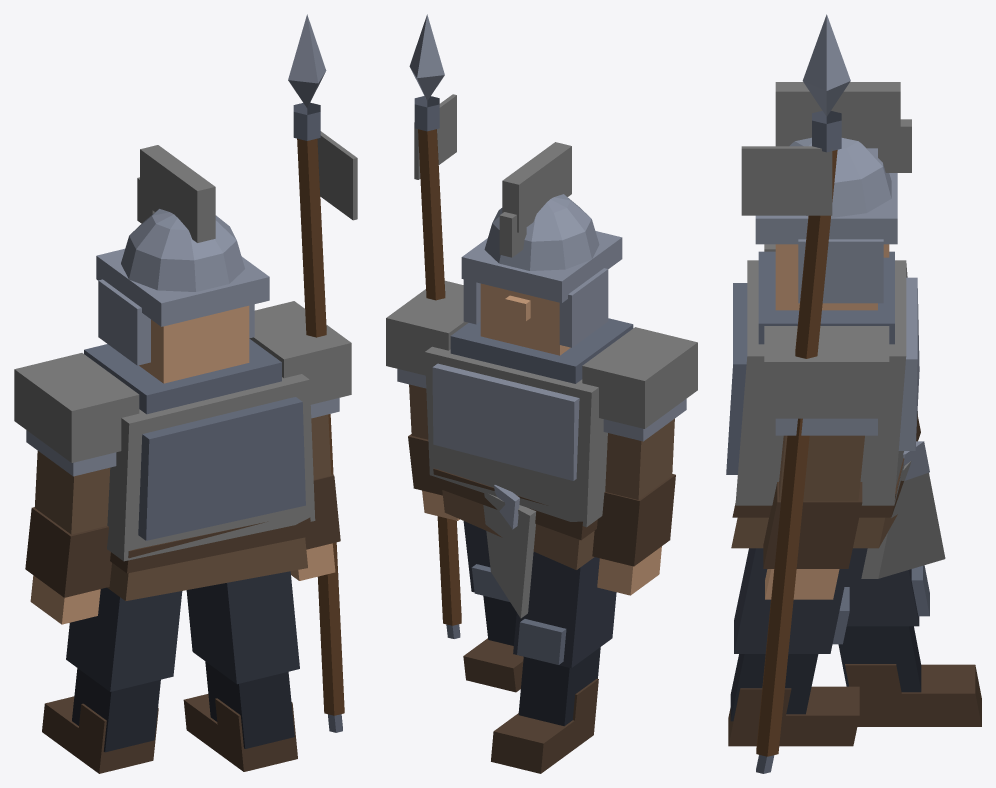
The model's file is infantry-walk-1.obj.
3 views of the same model, side by side, from view 1: azimuth 30°, elevation 25°; view 2: azimuth 150°, elevation 25°; view 3: azimuth 270°, elevation 25° (orthographic). The views are drawn at different scales.
Parts seen in each view (by area): view 1: infantry-walk-1; view 2: infantry-walk-1; view 3: infantry-walk-1.
Part boxes in pixels (box(x1,y1,x2,y2)): infantry-walk-1: box(14, 14, 357, 773); infantry-walk-1: box(386, 14, 697, 773); infantry-walk-1: box(726, 14, 981, 773).
Size of the model in its own units: 1.25 by 3.06 by 0.9006.
